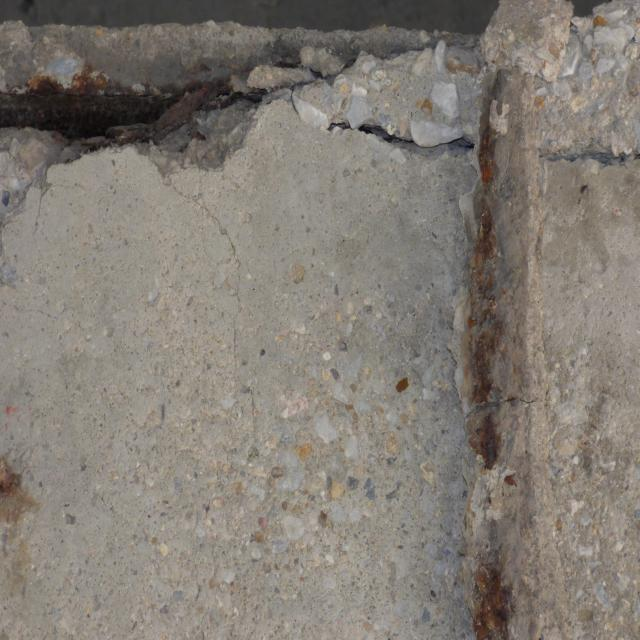corrosion: (458, 74, 530, 470), (0, 60, 237, 146), (1, 422, 52, 598), (466, 542, 528, 640)
